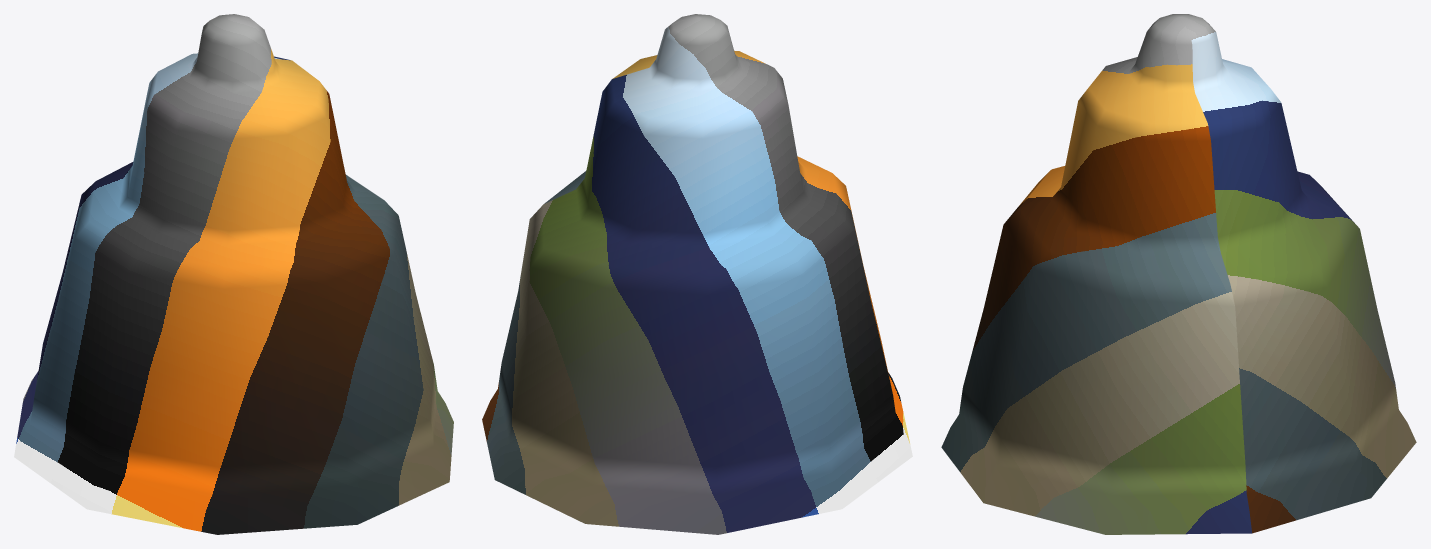
The model's file is Prop_SunlightSandcastleA.glb.
The picture shows the model from 3 angles, left to right: view 1: azimuth 30°, elevation 25°; view 2: azimuth 150°, elevation 25°; view 3: azimuth 270°, elevation 25°; orthographic projection.
Visible parts, largest first — view 1: Prop_SunlightSandcastleA; view 2: Prop_SunlightSandcastleA; view 3: Prop_SunlightSandcastleA.
Boxes of the visible parts, box(x1,y1,x2,y2) form: Prop_SunlightSandcastleA: box(14, 14, 453, 534); Prop_SunlightSandcastleA: box(482, 14, 912, 534); Prop_SunlightSandcastleA: box(941, 14, 1416, 534).
Size of the model in its own units: 1.79 by 1.99 by 1.99.
1 material, 1 textured.
